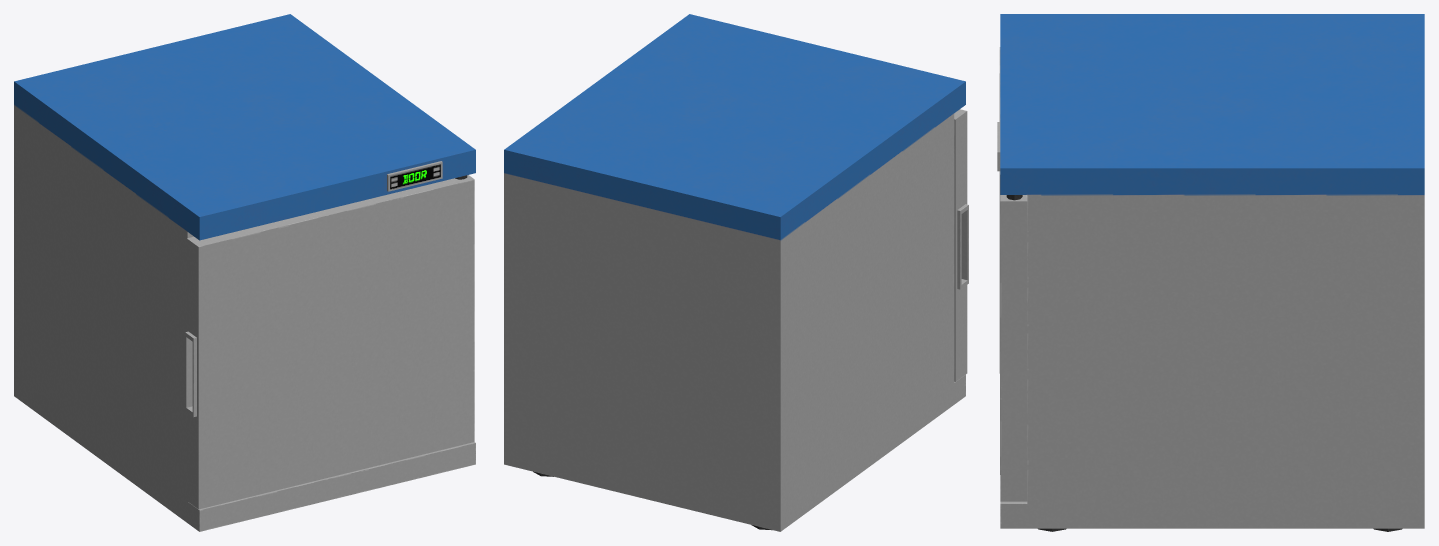
File: medical_fridge_closed.glb
3 renders of one model, left to right at view 1: azimuth 30°, elevation 25°; view 2: azimuth 150°, elevation 25°; view 3: azimuth 270°, elevation 25°, orthographic. The views are drawn at different scales.
Visible parts, largest first — view 1: Object_2; view 2: Object_2; view 3: Object_2.
Part boxes in pixels (left/top/right/bottom): Object_2: left=14, top=14, right=475, bottom=531; Object_2: left=504, top=14, right=968, bottom=531; Object_2: left=997, top=14, right=1424, bottom=531.
Bounding box in the file's own units: 77.53 × 85.69 × 89.34.
Materials: 1 (1 with a texture image).
